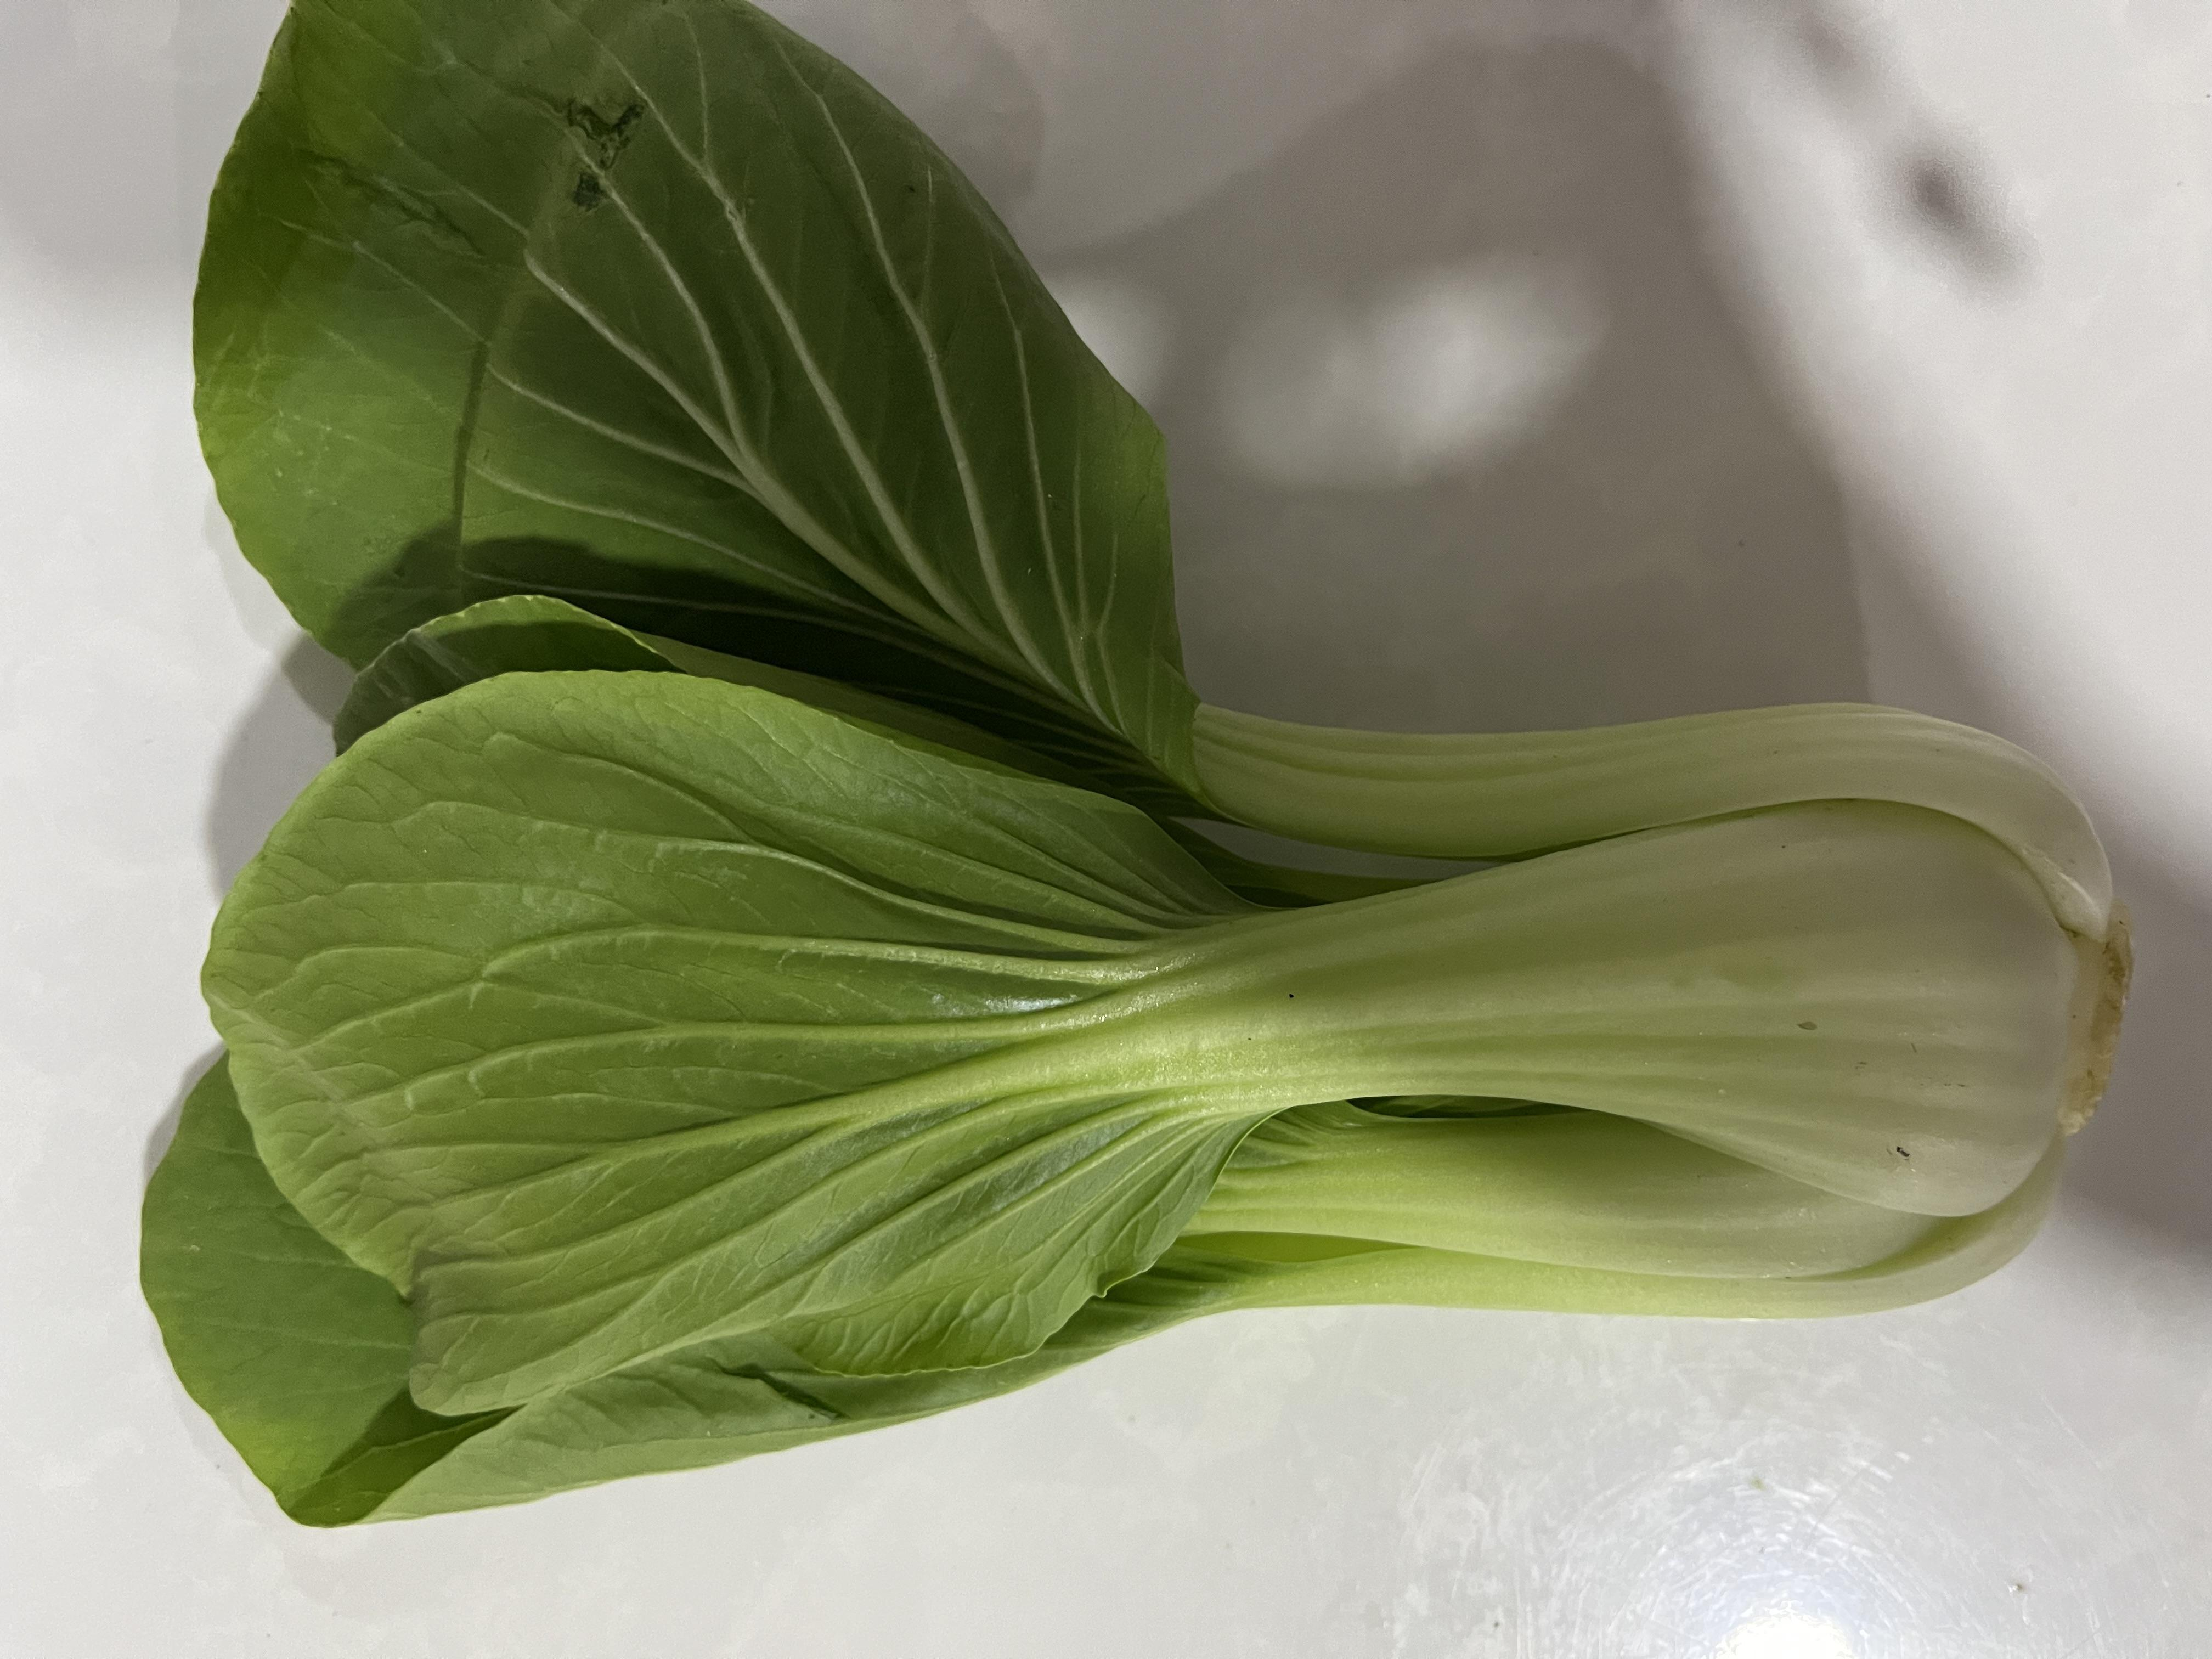Healthy-Pechay: (120, 120, 2123, 1387)
